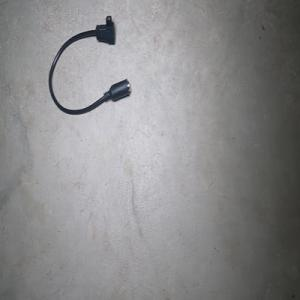Wire: (49, 15, 132, 114)
